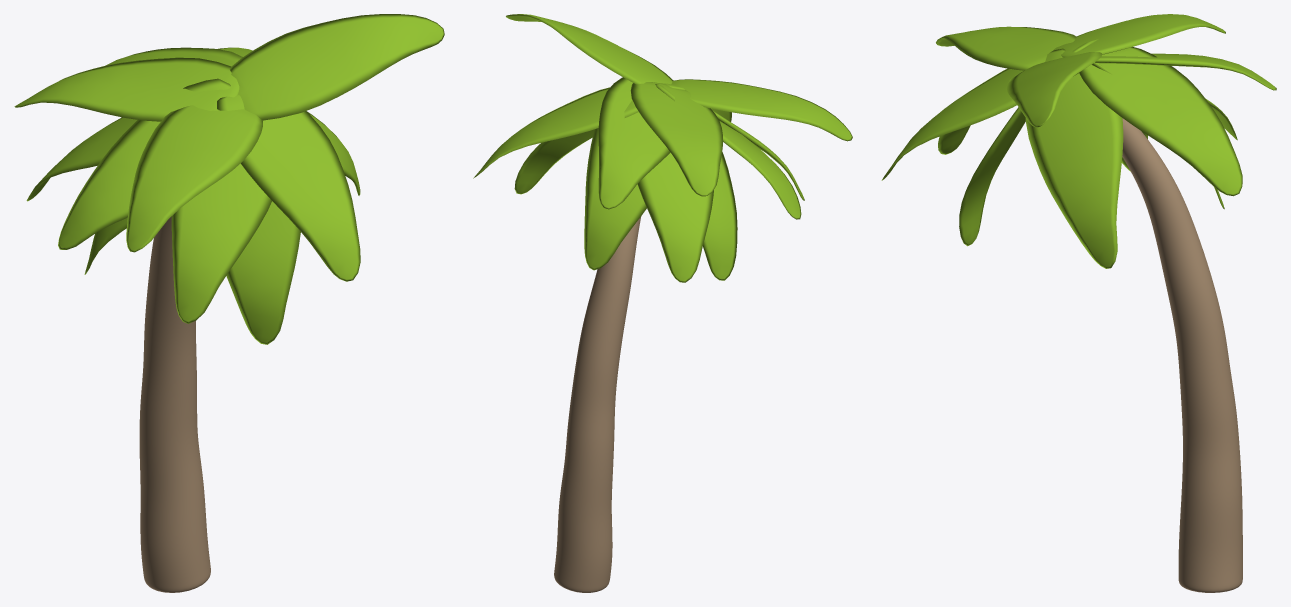
File: finalpalm.fbx
3 views of the same model, side by side, from view 1: azimuth 30°, elevation 25°; view 2: azimuth 150°, elevation 25°; view 3: azimuth 270°, elevation 25° (orthographic). The views are drawn at different scales.
Parts seen in each view (by area): view 1: finalpalm; view 2: finalpalm; view 3: finalpalm.
Boxes of the visible parts, <box> form: finalpalm: <box>14,14,444,592</box>; finalpalm: <box>473,14,852,592</box>; finalpalm: <box>881,14,1276,592</box>.
Size of the model in its own units: 19815 by 30391 by 19311.
